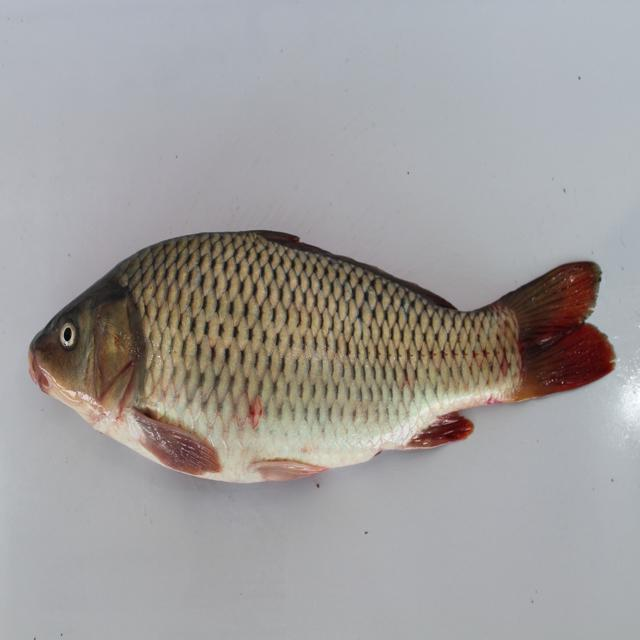CommonCarp: (22, 216, 624, 502)
